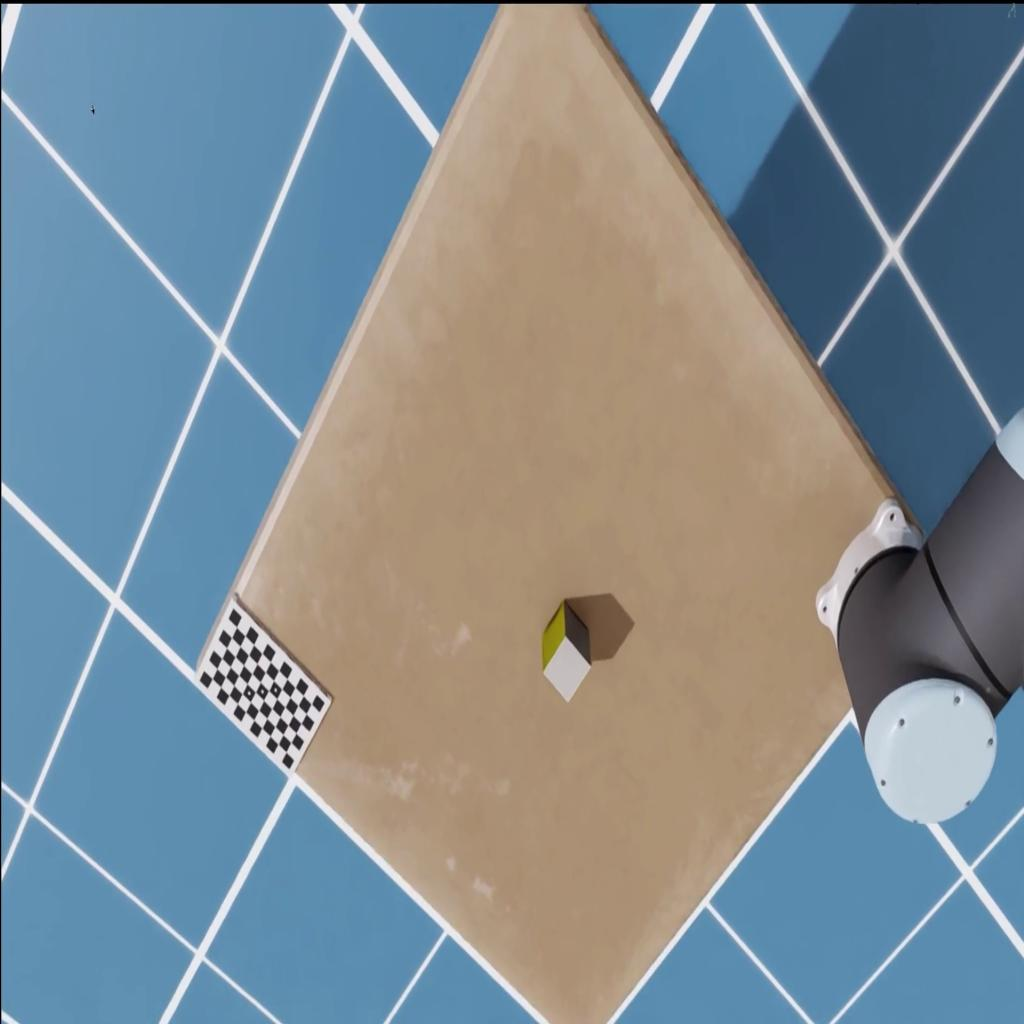Cube: (541, 599, 591, 703)
QR: (194, 590, 332, 776)
Robot: (815, 406, 1024, 822)
Table: (194, 1, 948, 1024)
